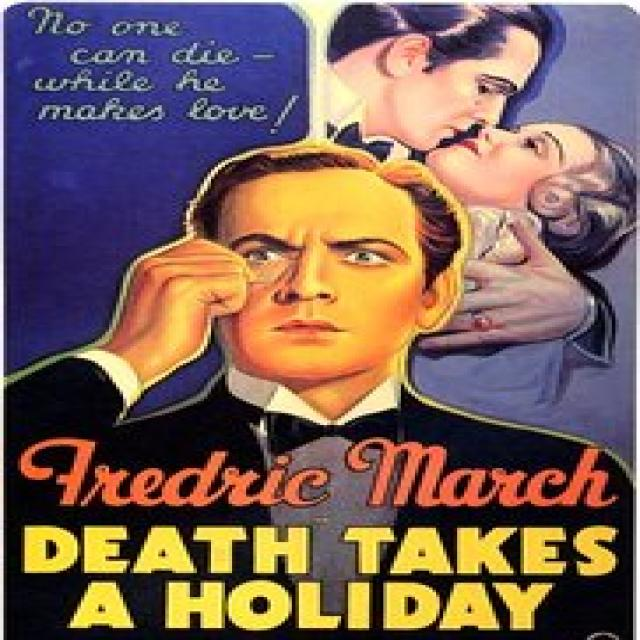movie-judul: (15, 514, 629, 636)
picture: (7, 142, 636, 440), (320, 2, 629, 362)
